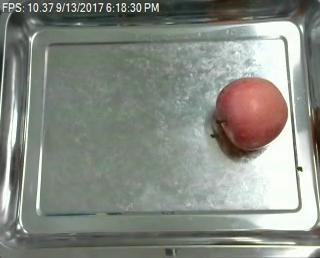apple: (214, 76, 289, 152)
